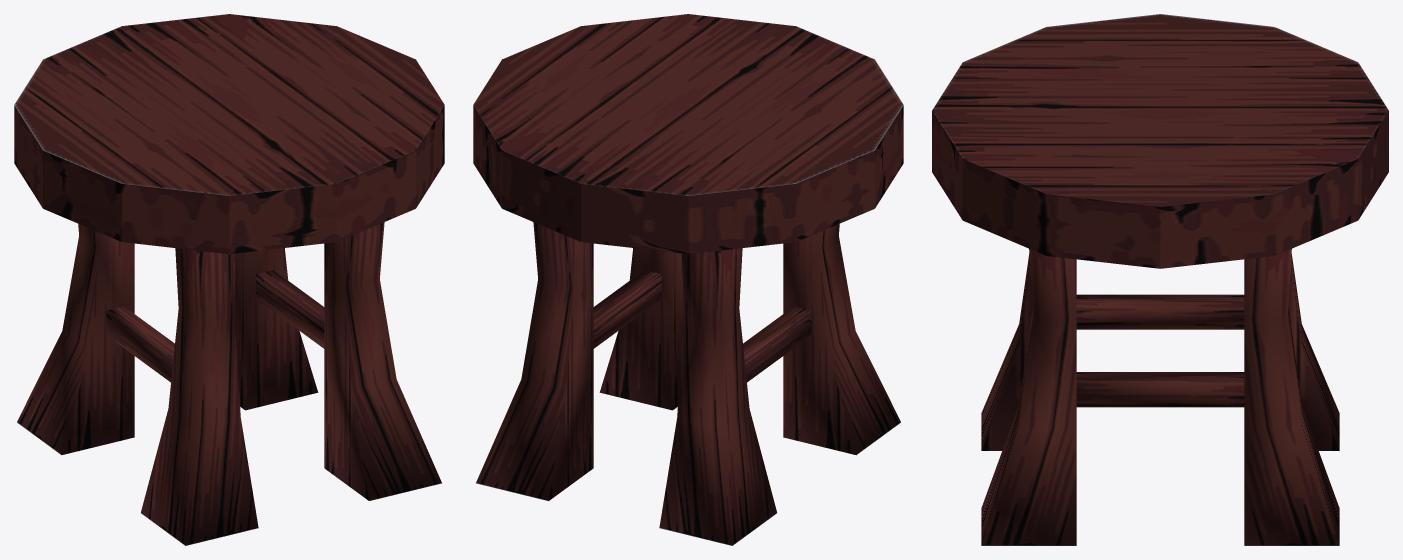
File: Stool1.fbx
The picture shows the model from 3 angles, left to right: view 1: azimuth 30°, elevation 25°; view 2: azimuth 150°, elevation 25°; view 3: azimuth 270°, elevation 25°; orthographic projection. The views are drawn at different scales.
Parts seen in each view (by area): view 1: Stool; view 2: Stool; view 3: Stool.
Boxes of the visible parts, x1=… form: Stool: x1=14, y1=14, x2=444, y2=545; Stool: x1=473, y1=14, x2=903, y2=545; Stool: x1=932, y1=14, x2=1388, y2=545.
Size of the model in its own units: 28.09 by 25.04 by 28.09.
Materials: 1 (1 with a texture image).
